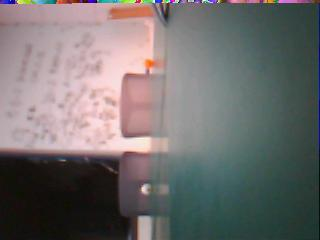oball: (143, 58, 154, 68)
